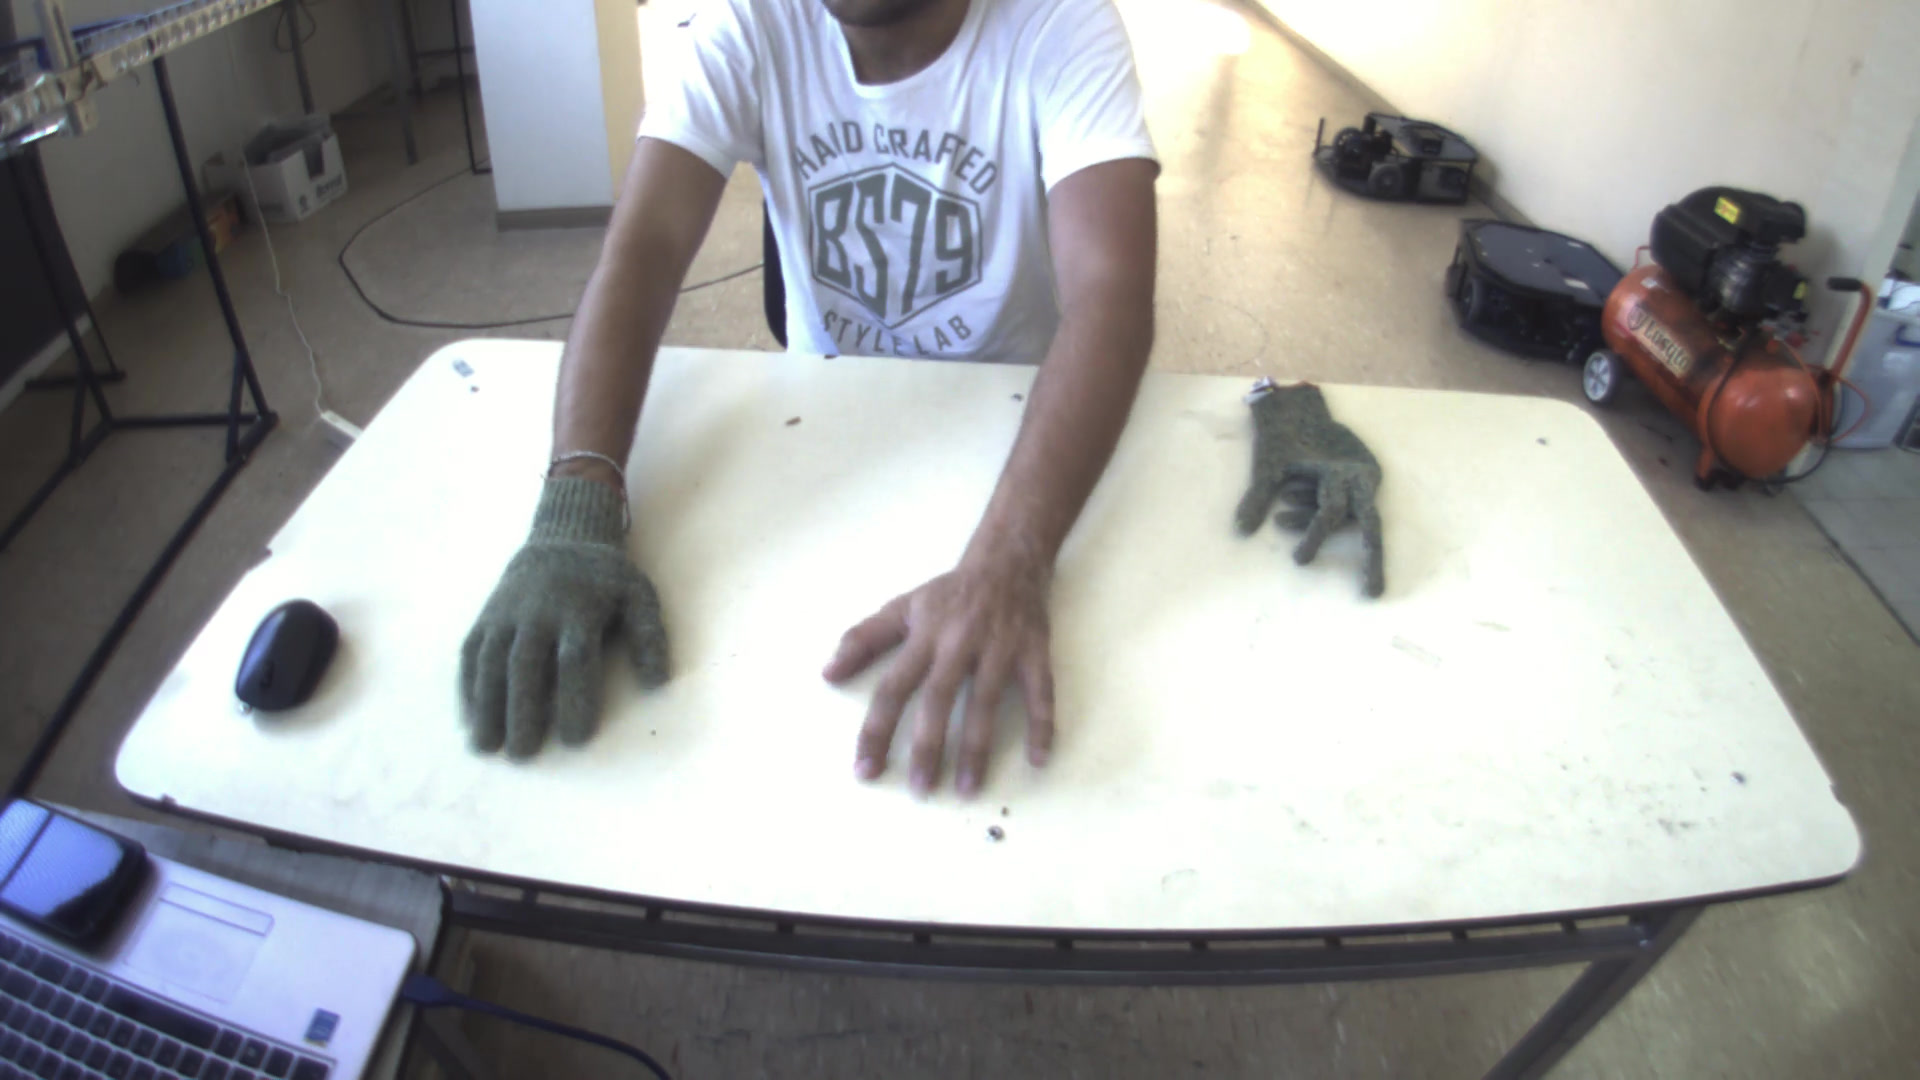hand: (444, 446, 663, 774), (819, 554, 1080, 804)
